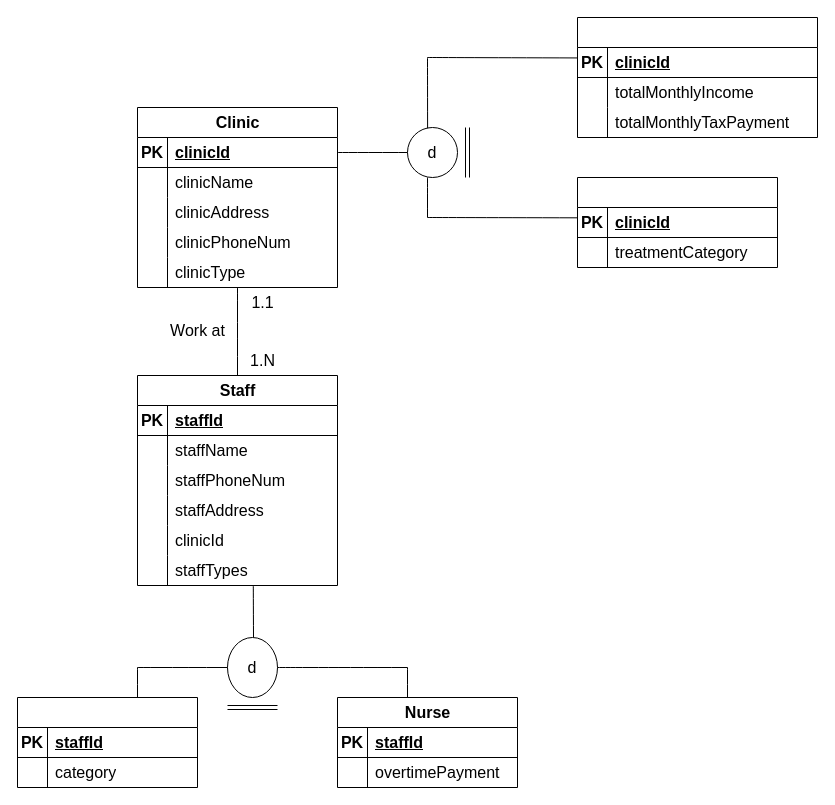
This 835x805 diagram has some shape labels left out. Here are the shapes that lost their labels. From the top down, the box of each, then its label:
(576, 16, 818, 138): Private
(576, 176, 778, 268): Government
(16, 696, 198, 788): Doctor
